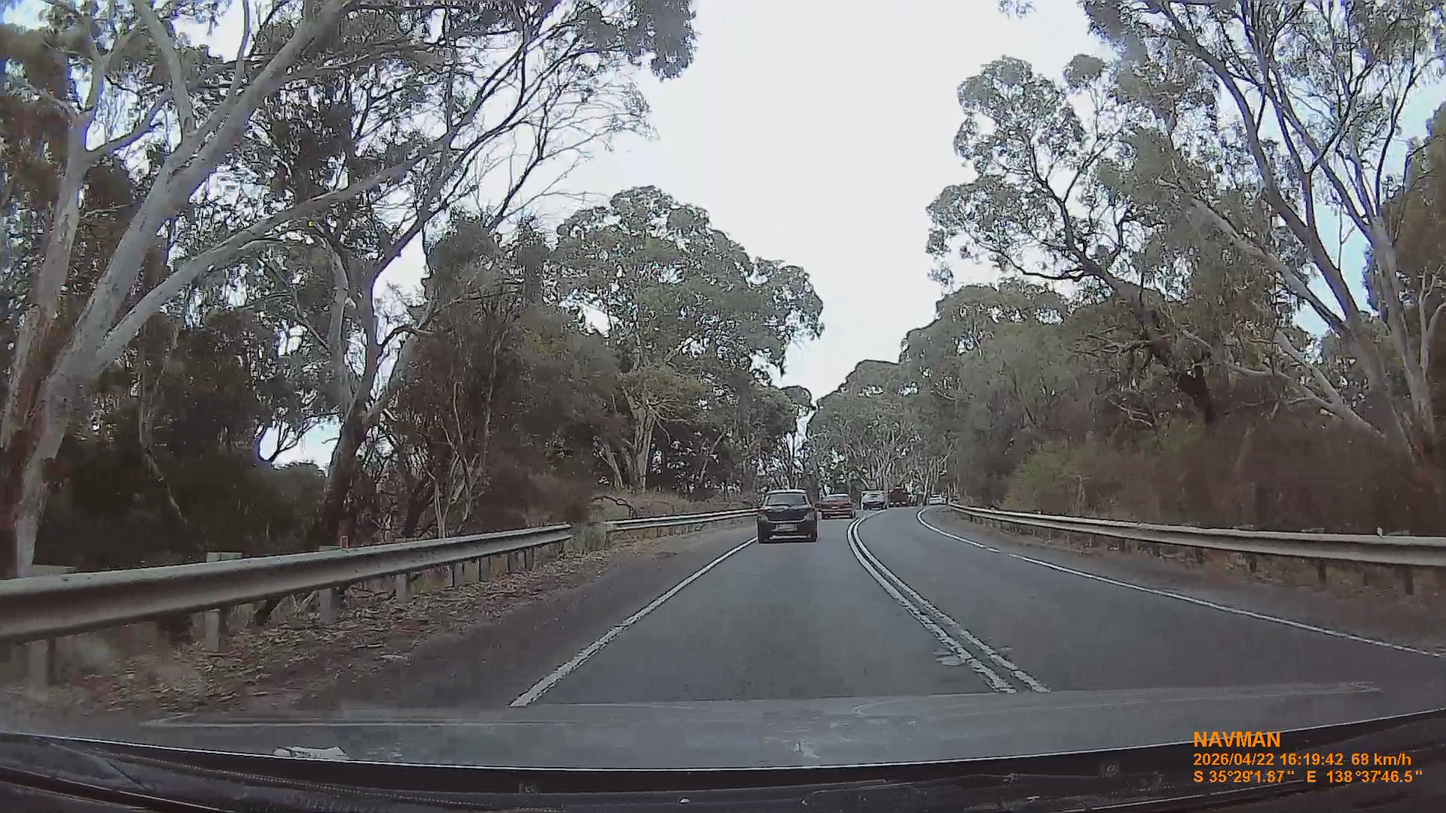road barriers: (2, 510, 740, 649), (947, 504, 1446, 578), (584, 507, 748, 550)
